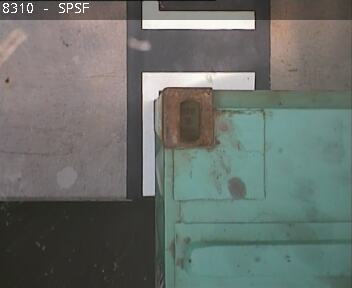groundmarker_1: (141, 1, 253, 192)
